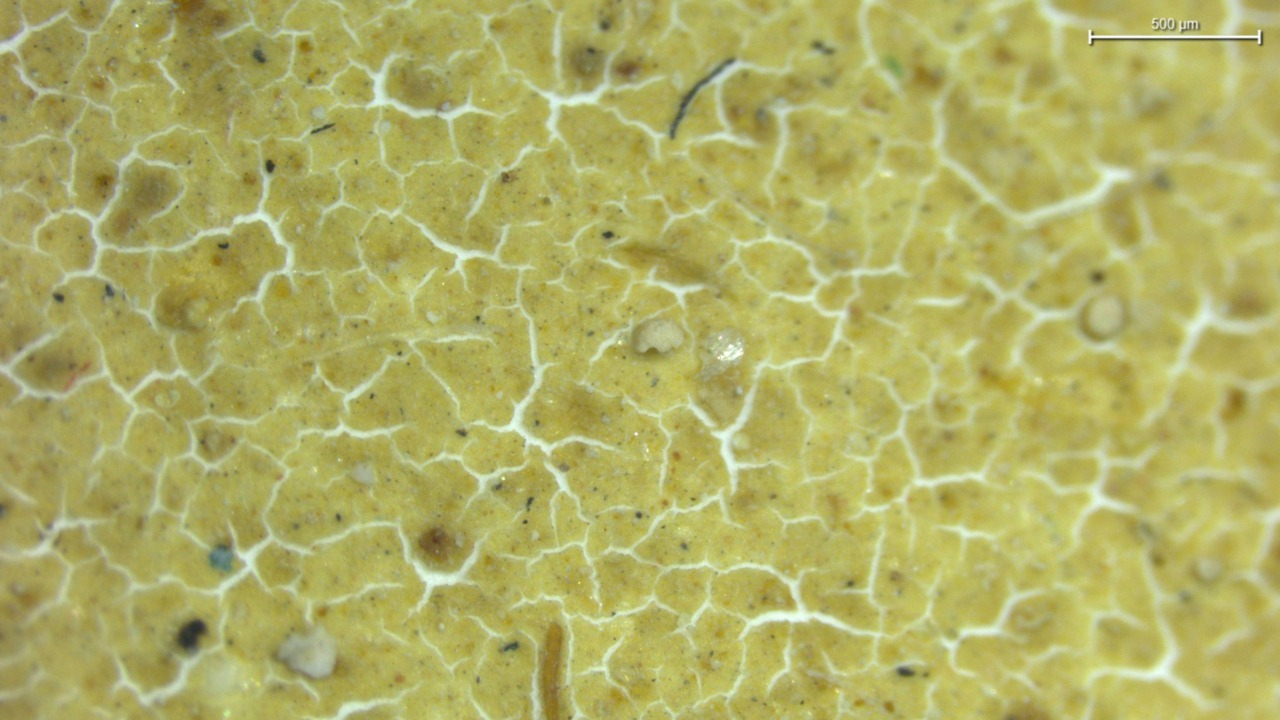microplastic_fragment: (275, 625, 336, 679), (632, 318, 684, 354)
